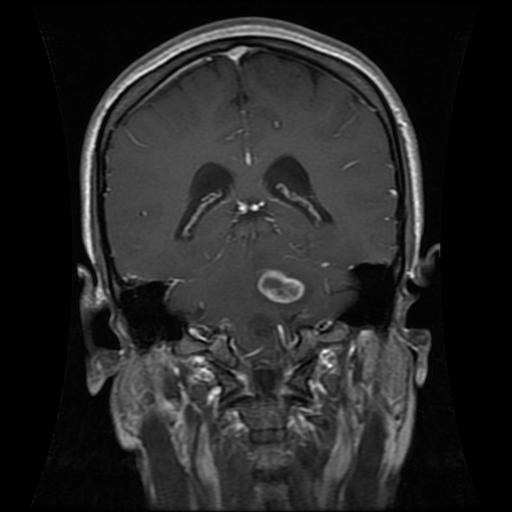Gliomia_tumour: (254, 265, 314, 308)
